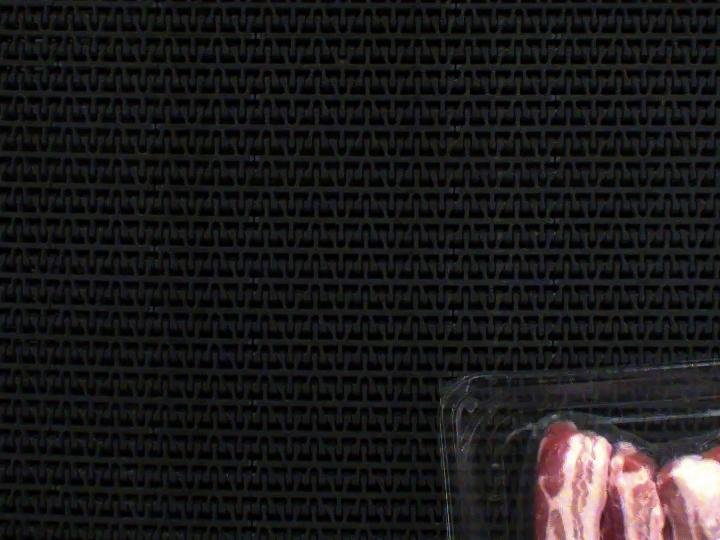unsealed: (503, 372, 720, 472)
